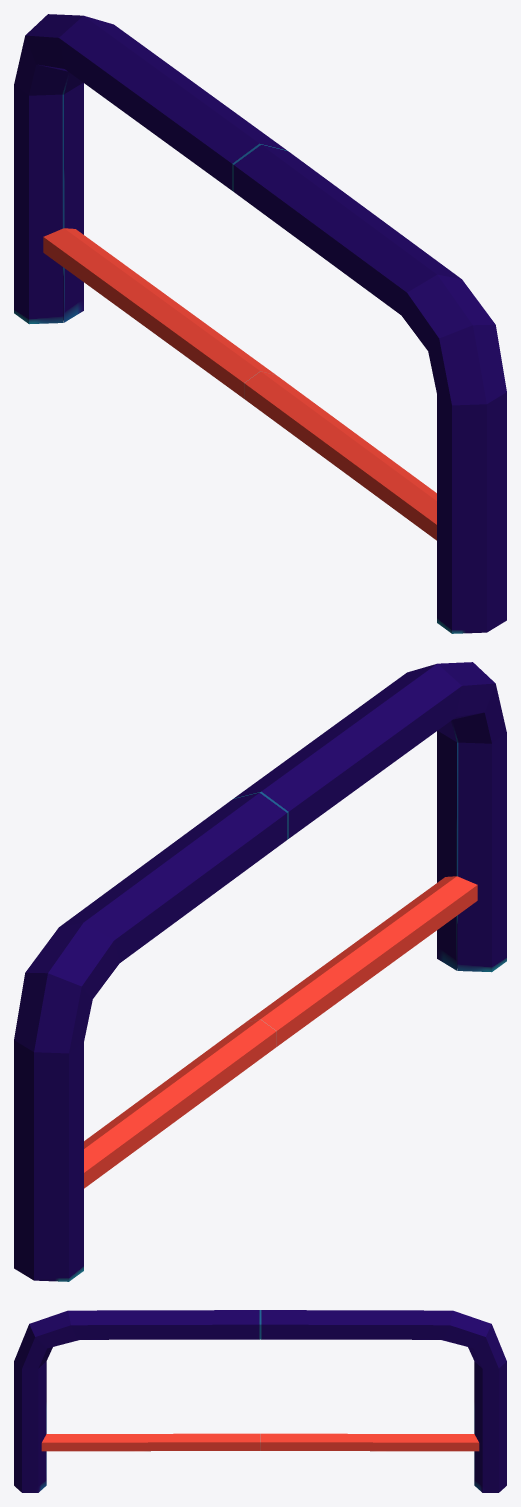
Rendered from BarrierBig.fbx.
3 views of the same model, one above another, from view 1: azimuth 30°, elevation 25°; view 2: azimuth 150°, elevation 25°; view 3: azimuth 270°, elevation 25° (orthographic). The views are drawn at different scales.
Parts seen in each view (by area): view 1: BarrierBig; view 2: BarrierBig; view 3: BarrierBig.
Boxes of the visible parts, x1=… form: BarrierBig: x1=14, y1=14, x2=506, y2=633; BarrierBig: x1=14, y1=662, x2=506, y2=1281; BarrierBig: x1=14, y1=1310, x2=506, y2=1492.
Bounding box in the file's own units: 3.49 × 19.03 × 48.42.
